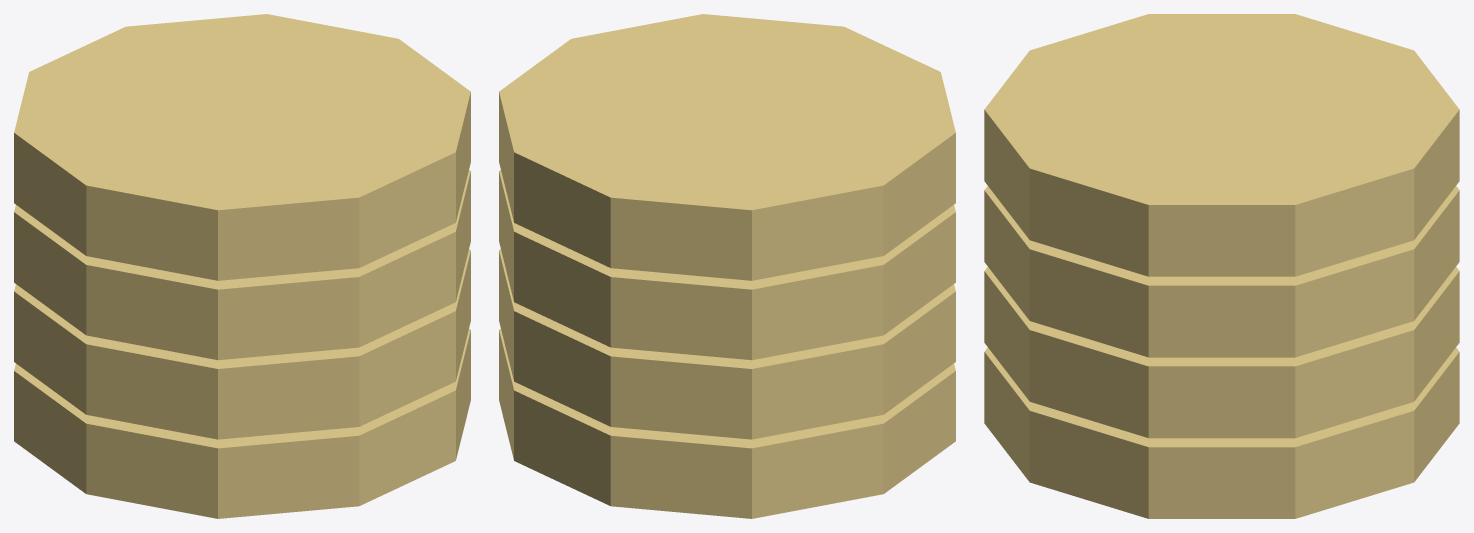
File: coin_stack.glb
3 renders of one model, left to right at view 1: azimuth 30°, elevation 25°; view 2: azimuth 150°, elevation 25°; view 3: azimuth 270°, elevation 25°, orthographic.
Parts seen in each view (by area): view 1: coin_stack; view 2: coin_stack; view 3: coin_stack.
Part boxes in pixels (left/top/right/bottom): coin_stack: left=14, top=14, right=470, bottom=518; coin_stack: left=499, top=14, right=955, bottom=518; coin_stack: left=984, top=14, right=1459, bottom=518.
Bounding box in the file's own units: 0.2283 × 0.175 × 0.24.
